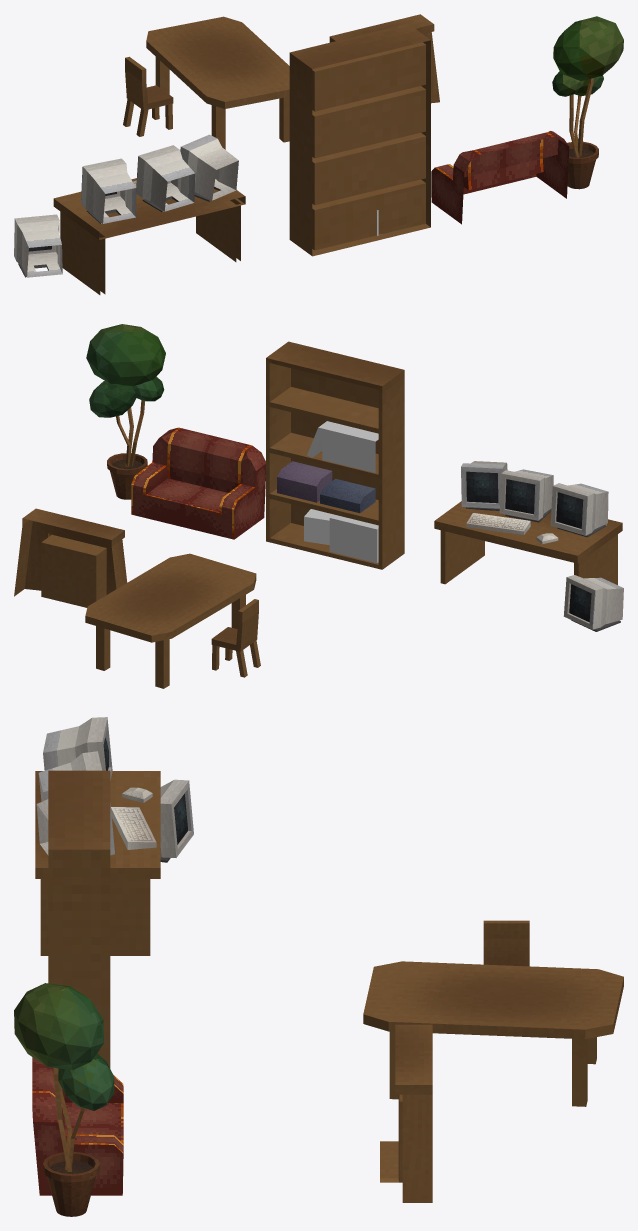
The model's file is furnitur_idk_update.fbx.
The picture shows the model from 3 angles, top to bottom: view 1: azimuth 30°, elevation 25°; view 2: azimuth 150°, elevation 25°; view 3: azimuth 270°, elevation 25°; orthographic projection. The views are drawn at different scales.
Parts seen in each view (by area): view 1: ШкафСп, Стол, Компьютерный стол, Диван, Цветок.001, Monitor.001, Monitor.002, Цветок, Monitor.003, Monitor, Стул, Камин; view 2: ШкафСп, Диван, Стол, Камин, Компьютерный стол, Цветок.001, Цветок, Одежда, Monitor.003, Коробки, Monitor.002, Книги (+4 smaller); view 3: Стол, ШкафСп, Компьютерный стол, Камин, Диван, Цветок.001, Цветок, Monitor.002, Monitor.003, Стул, Cube, Monitor.001 (+1 smaller).
Boxes of the visible parts, x1=… form: ШкафСп: x1=289, y1=23, x2=430, y2=256; Стол: x1=146, y1=16, x2=289, y2=149; Компьютерный стол: x1=53, y1=178, x2=245, y2=294; Диван: x1=431, y1=131, x2=569, y2=224; Цветок.001: x1=553, y1=16, x2=623, y2=80; Monitor.001: x1=136, y1=145, x2=195, y2=212; Monitor.002: x1=81, y1=158, x2=136, y2=223; Цветок: x1=552, y1=71, x2=603, y2=189; Monitor.003: x1=14, y1=214, x2=62, y2=277; Monitor: x1=180, y1=134, x2=238, y2=201; Стул: x1=123, y1=56, x2=173, y2=136; Камин: x1=329, y1=14, x2=439, y2=103; ШкафСп: x1=266, y1=341, x2=404, y2=569; Диван: x1=131, y1=427, x2=265, y2=539; Стол: x1=85, y1=553, x2=256, y2=688; Камин: x1=14, y1=508, x2=127, y2=607; Компьютерный стол: x1=434, y1=501, x2=622, y2=584; Цветок.001: x1=86, y1=324, x2=165, y2=386; Цветок: x1=89, y1=376, x2=164, y2=499; Одежда: x1=277, y1=461, x2=375, y2=513; Monitor.003: x1=563, y1=575, x2=623, y2=631; Коробки: x1=304, y1=509, x2=378, y2=563; Monitor.002: x1=550, y1=483, x2=608, y2=537; Книги: x1=307, y1=421, x2=378, y2=472; Стол: x1=363, y1=961, x2=623, y2=1106; ШкафСп: x1=48, y1=770, x2=110, y2=1068; Компьютерный стол: x1=35, y1=771, x2=160, y2=955; Камин: x1=380, y1=1024, x2=432, y2=1202; Диван: x1=32, y1=1057, x2=123, y2=1195; Цветок.001: x1=14, y1=983, x2=103, y2=1070; Цветок: x1=43, y1=1053, x2=114, y2=1216; Monitor.002: x1=43, y1=717, x2=112, y2=780; Monitor.003: x1=160, y1=779, x2=193, y2=862; Стул: x1=483, y1=920, x2=529, y2=966; Cube: x1=111, y1=807, x2=156, y2=849; Monitor.001: x1=38, y1=751, x2=102, y2=801.
Size of the model in its own units: 670 by 215 by 456.
